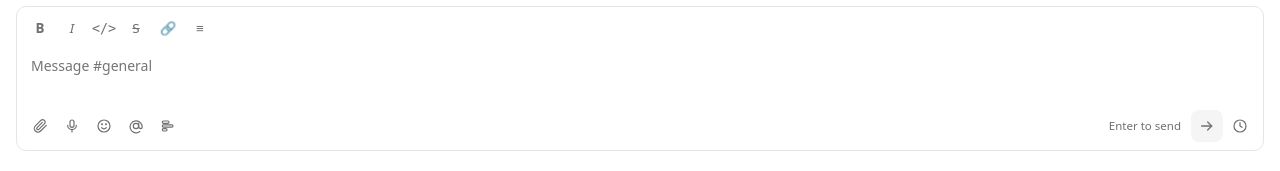
Test: the composer formatting toolbar › wraps the selection when a button is clicked
Type "hello" into the text box with placeholder "Message #general" at (640, 73), box [17, 43, 1263, 104]
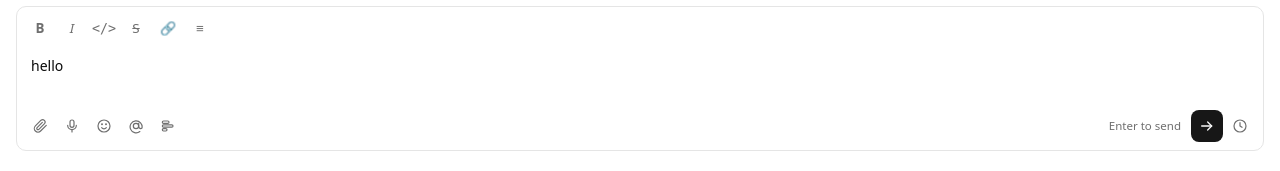
Click the button named "Bold" at (40, 28), box [25, 13, 55, 43]
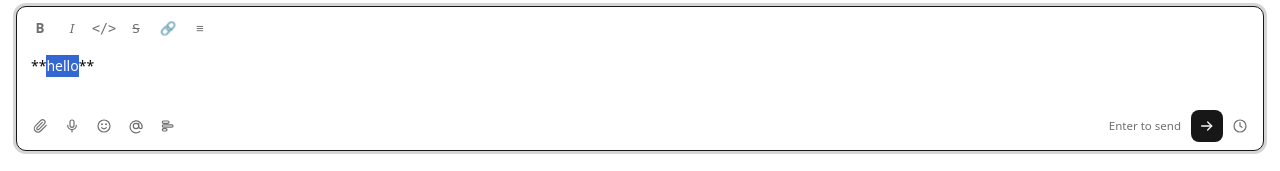
Now the text box with placeholder "Message #general" holds "**hello**", box [17, 43, 1263, 104]
